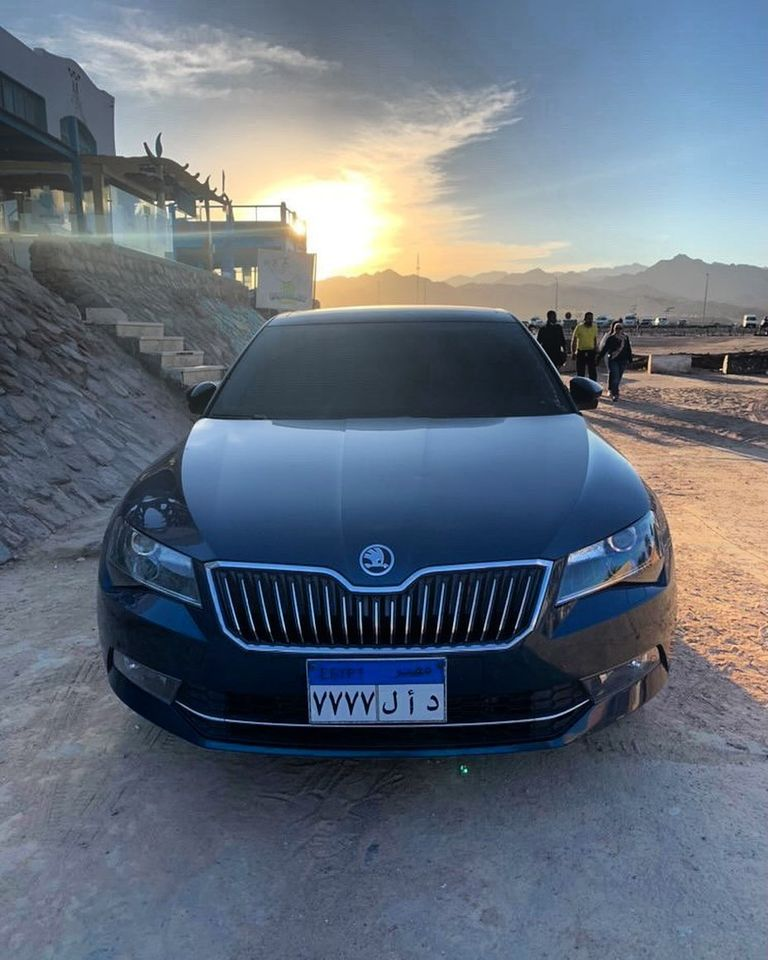carpl: (303, 671, 454, 721)
